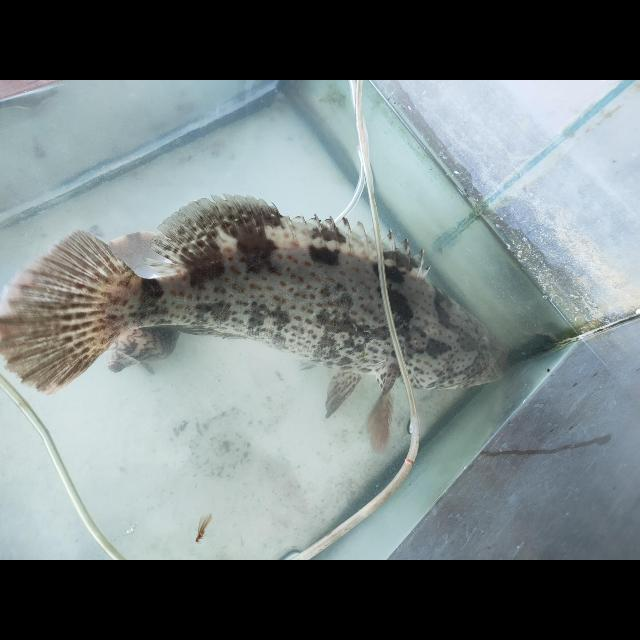Groupers: (0, 196, 506, 452)
